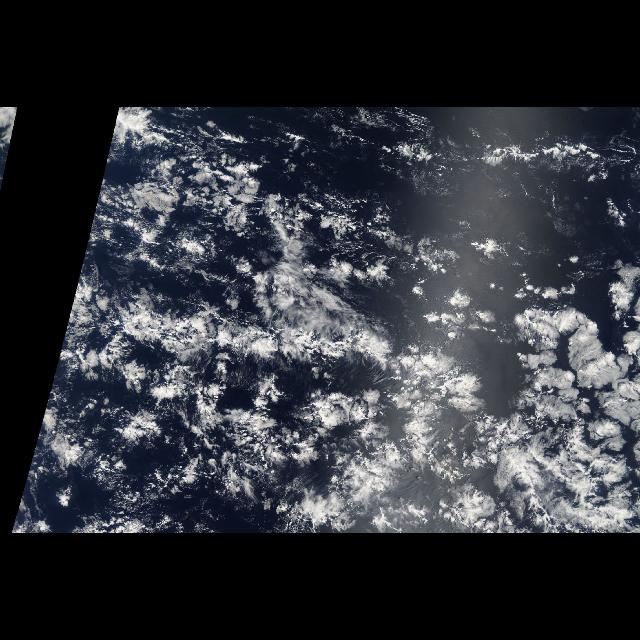Fish: (74, 283, 446, 392), (383, 130, 635, 176)
Flower: (60, 345, 452, 533), (490, 254, 636, 532)
Gravel: (140, 193, 456, 517)
